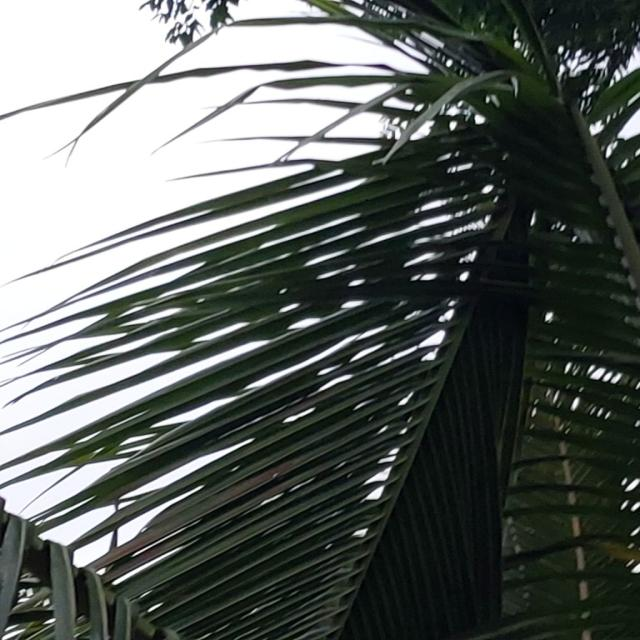leaf rot: (124, 10, 632, 255)
